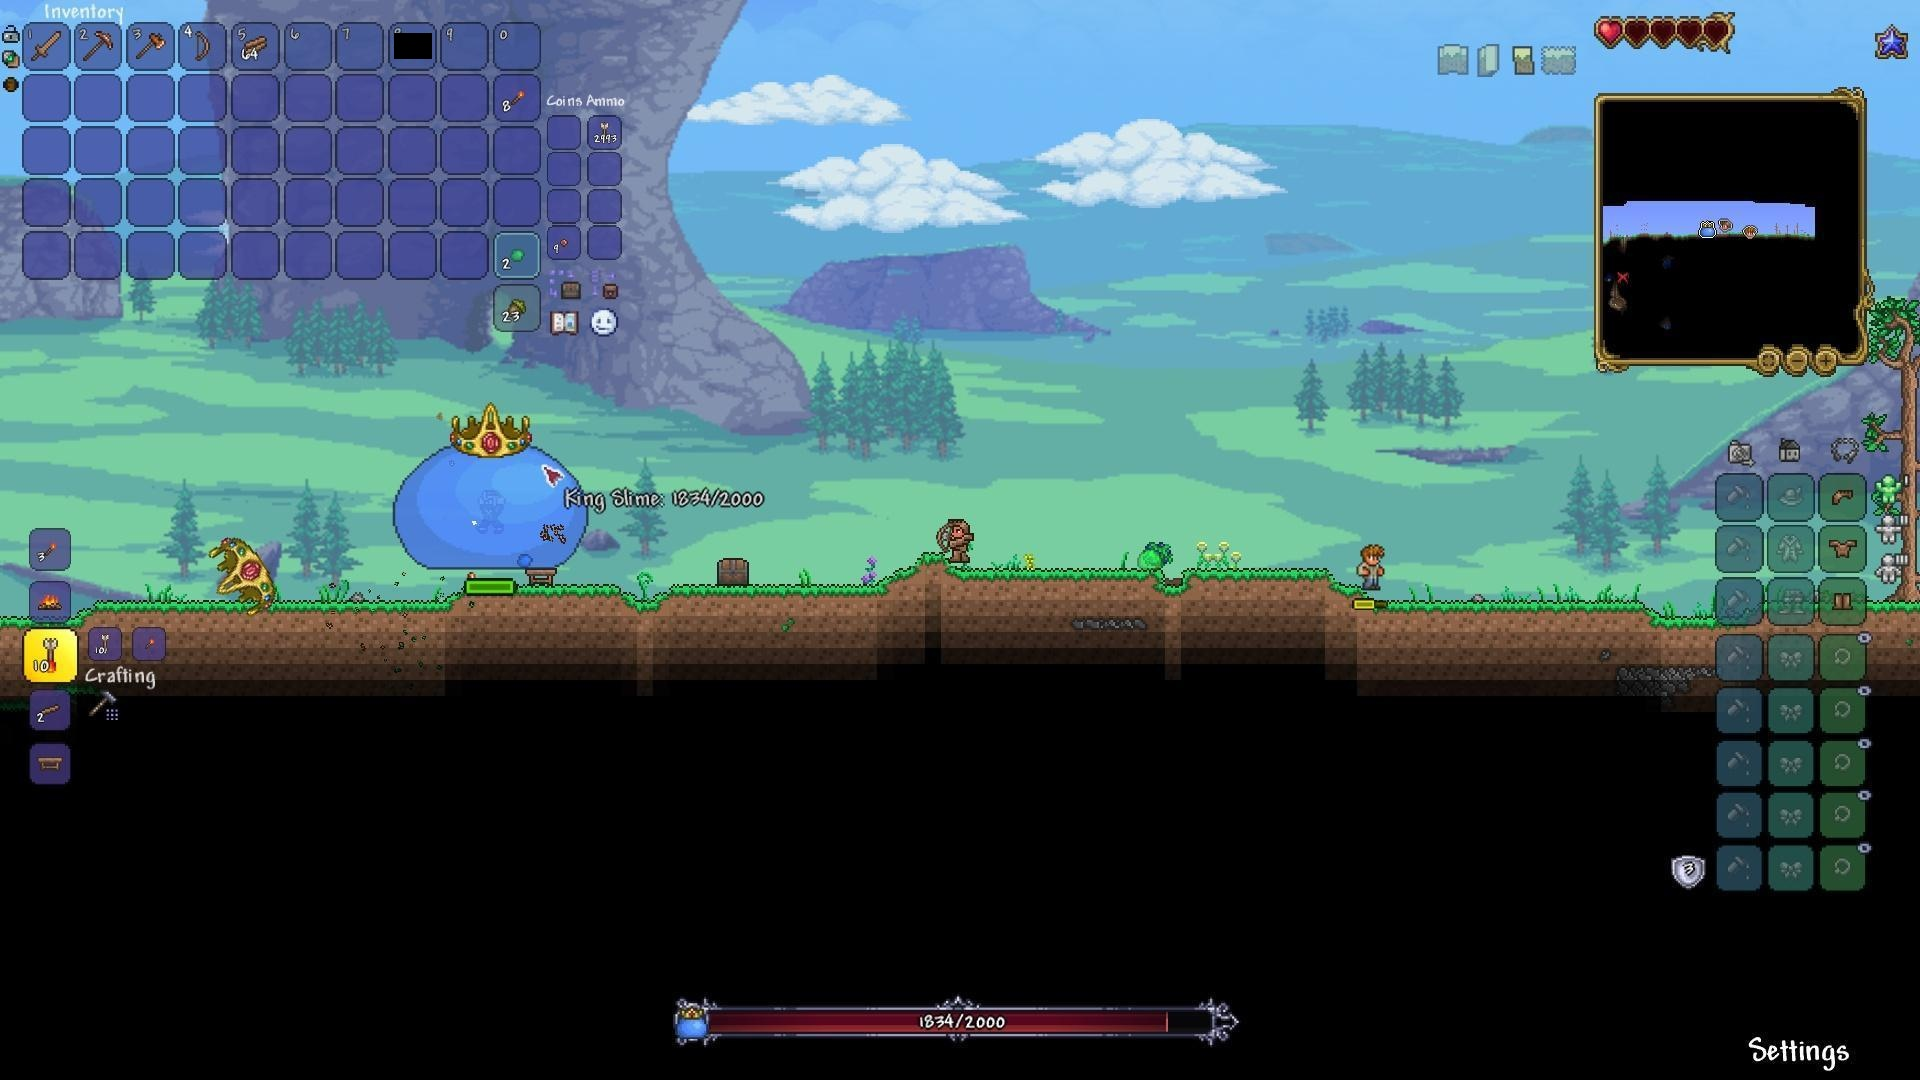breastplate: (1829, 537, 1859, 556)
helmet: (1826, 483, 1858, 512)
legs: (1832, 585, 1855, 615)
slime: (1137, 545, 1162, 572)
wood: (243, 34, 270, 61)
workbench: (524, 564, 560, 589), (36, 753, 67, 775)
